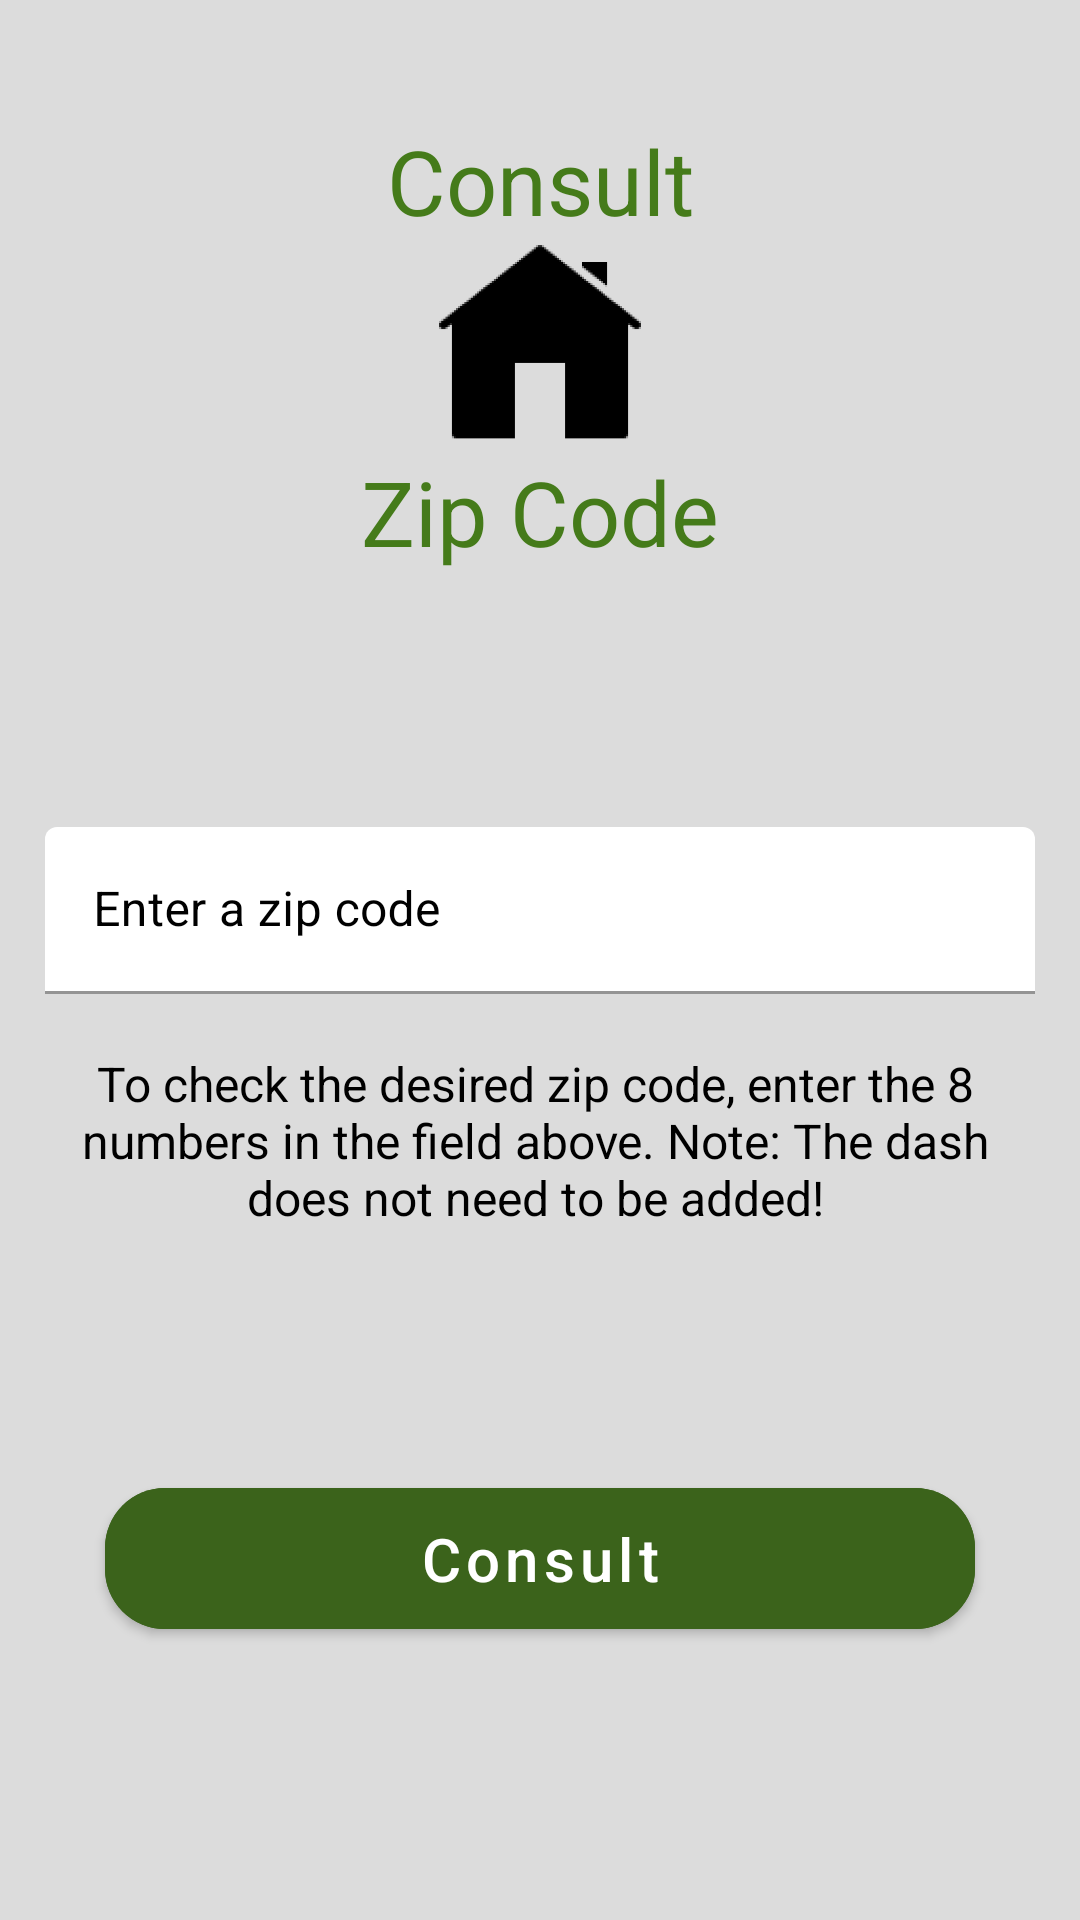

Icon bounding boxes for this 1080*1920 phone screenshot, format (x1, y1, x2, y2):
Icon house: (439, 245, 641, 439)
